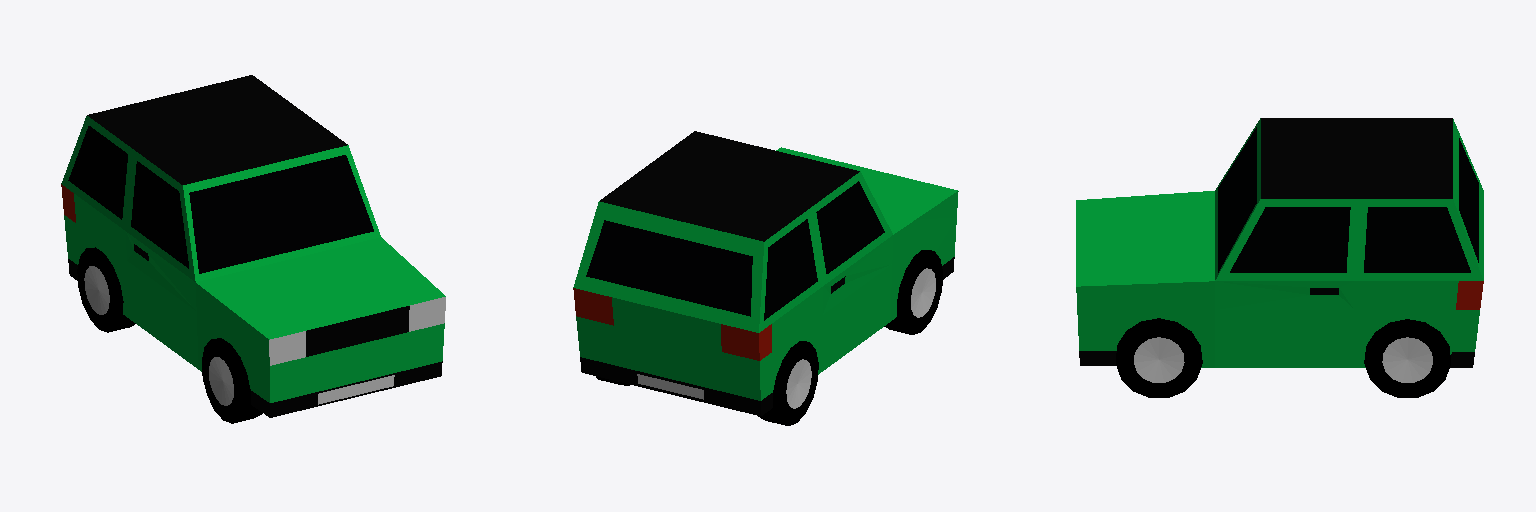
File: car1.obj
3 views of the same model, side by side, from view 1: azimuth 30°, elevation 25°; view 2: azimuth 150°, elevation 25°; view 3: azimuth 270°, elevation 25° (orthographic).
Parts seen in each view (by area): view 1: Body2, WheelRL4, WheelRL2; view 2: Body2, WheelRL4, WheelRL2; view 3: Body2, WheelRL3, WheelRL1.
Boxes of the visible parts, box(x1,y1,x2,y2) form: Body2: box(61, 75, 445, 417); WheelRL4: box(202, 338, 262, 423); WheelRL2: box(77, 247, 135, 332); Body2: box(573, 131, 958, 415); WheelRL4: box(884, 250, 942, 334); WheelRL2: box(758, 341, 818, 425); Body2: box(1076, 118, 1483, 367); WheelRL3: box(1116, 318, 1202, 397); WheelRL1: box(1364, 319, 1450, 397).
Bounding box in the file's own units: 1.01 × 0.9905 × 1.87.